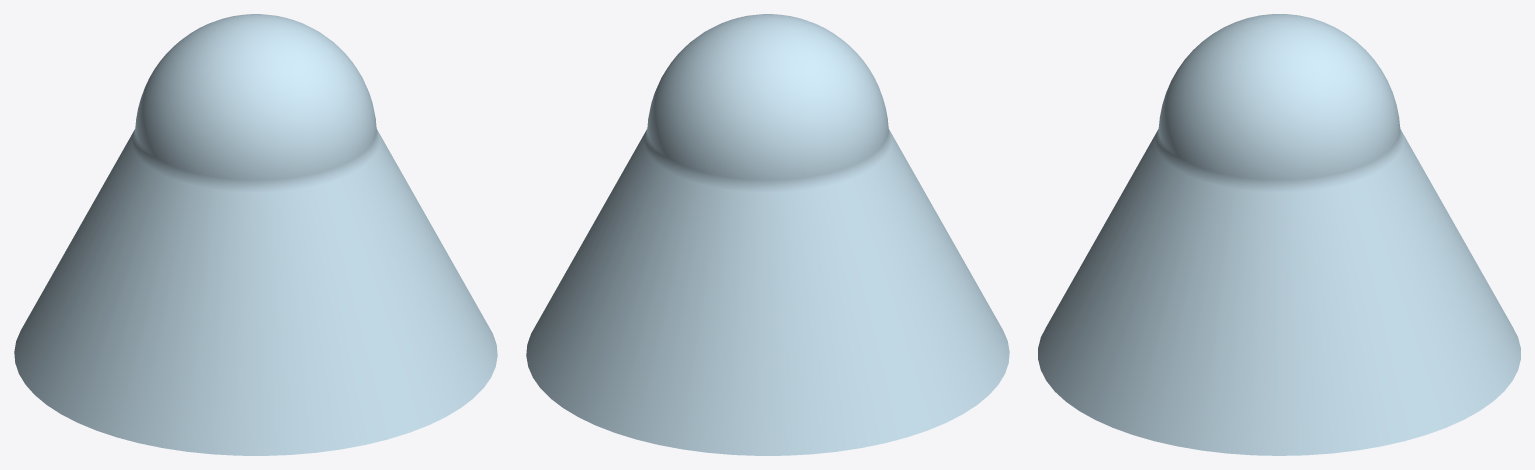
The model's file is Thruster.gltf.
3 renders of one model, left to right at view 1: azimuth 30°, elevation 25°; view 2: azimuth 150°, elevation 25°; view 3: azimuth 270°, elevation 25°, orthographic.
Parts seen in each view (by area): view 1: Part 1; view 2: Part 1; view 3: Part 1.
Part boxes in pixels (x1,y1,x2,y2): Part 1: [14, 14, 497, 455]; Part 1: [526, 14, 1009, 455]; Part 1: [1038, 14, 1520, 455].
Size of the model in its own units: 0.0762 by 0.0571 by 0.0761.
